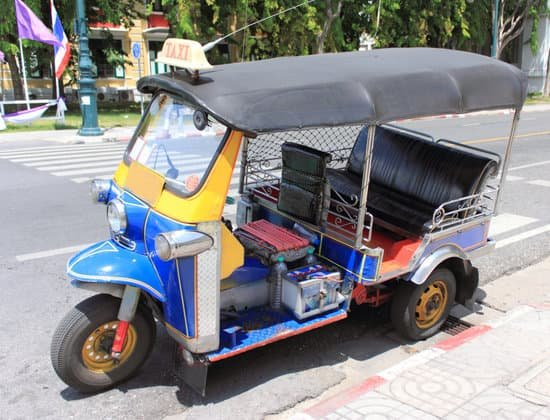threewheel: (50, 38, 532, 394)
